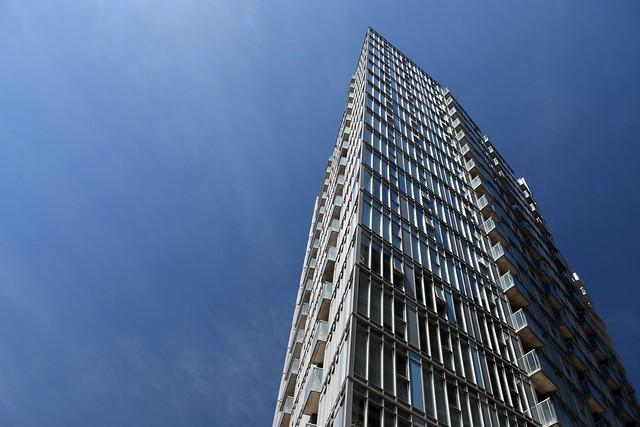building: (269, 25, 640, 427)
